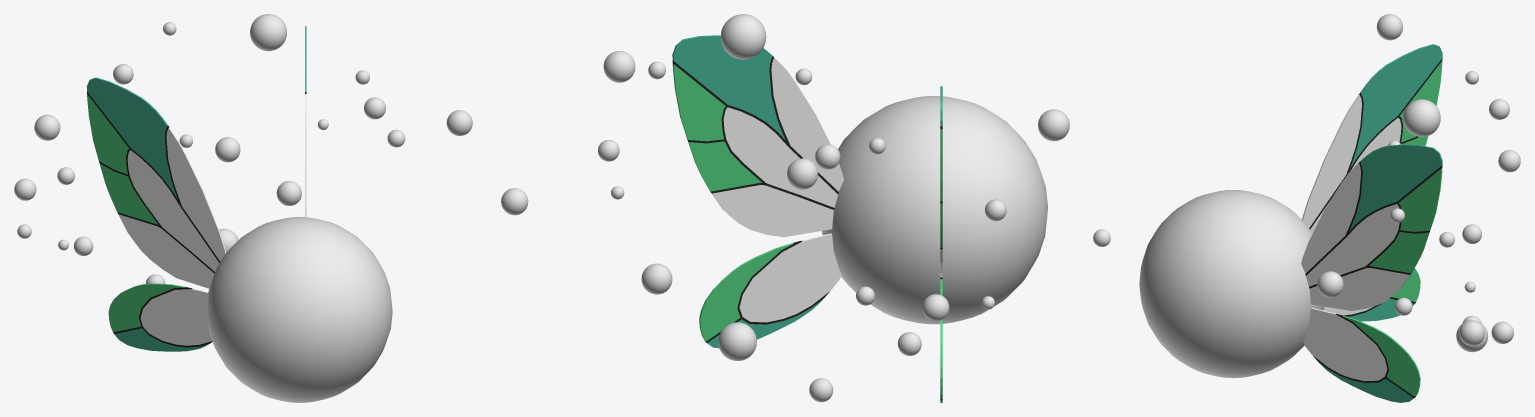
Rendered from Fairy.fbx.
3 views of the same model, side by side, from view 1: azimuth 30°, elevation 25°; view 2: azimuth 150°, elevation 25°; view 3: azimuth 270°, elevation 25° (orthographic). The views are drawn at different scales.
Parts seen in each view (by area): view 1: Sphere, Plane, Sphere.001, Sphere.006, Sphere.011, Sphere.003, Sphere.016; view 2: Sphere, Plane, Sphere.001, Sphere.005, Sphere.006, Sphere.011, Sphere.016, Sphere.003, Sphere.015, Sphere.010; view 3: Plane, Sphere, Sphere.001, Sphere.011, Sphere.006, Sphere.016, Sphere.010, Sphere.015, Sphere.002.
Boxes of the visible parts, x1,y1,x2,y2 form: Sphere: (206, 217, 392, 402); Plane: (86, 26, 306, 351); Sphere.001: (250, 14, 286, 51); Sphere.006: (34, 114, 60, 140); Sphere.011: (446, 110, 472, 135); Sphere.003: (215, 137, 240, 162); Sphere.016: (276, 181, 301, 205); Sphere: (821, 96, 1047, 324); Plane: (672, 35, 942, 402); Sphere.001: (720, 14, 766, 59); Sphere.005: (718, 322, 756, 360); Sphere.006: (1038, 109, 1069, 141); Sphere.011: (603, 51, 635, 82); Sphere.016: (641, 263, 672, 294); Sphere.003: (787, 158, 817, 189); Sphere.015: (501, 188, 528, 215); Sphere.010: (922, 294, 949, 321); Plane: (1301, 44, 1442, 402); Sphere: (1139, 190, 1324, 378); Sphere.001: (1403, 99, 1440, 136); Sphere.011: (1317, 271, 1343, 297); Sphere.006: (1376, 14, 1402, 40); Sphere.016: (1459, 320, 1484, 345); Sphere.010: (1498, 150, 1520, 172); Sphere.015: (1491, 321, 1513, 343); Sphere.002: (1489, 99, 1509, 119).
Size of the model in its own units: 535 by 350 by 405.
